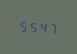five: (18, 18, 27, 33), (28, 19, 37, 33)
four: (38, 20, 47, 34)
seven: (48, 20, 57, 35)
